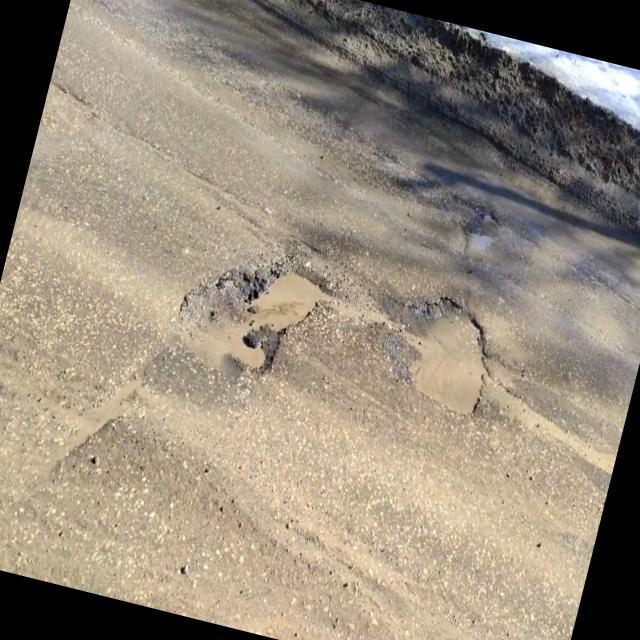Pothole: (174, 220, 344, 394), (381, 285, 509, 419)
